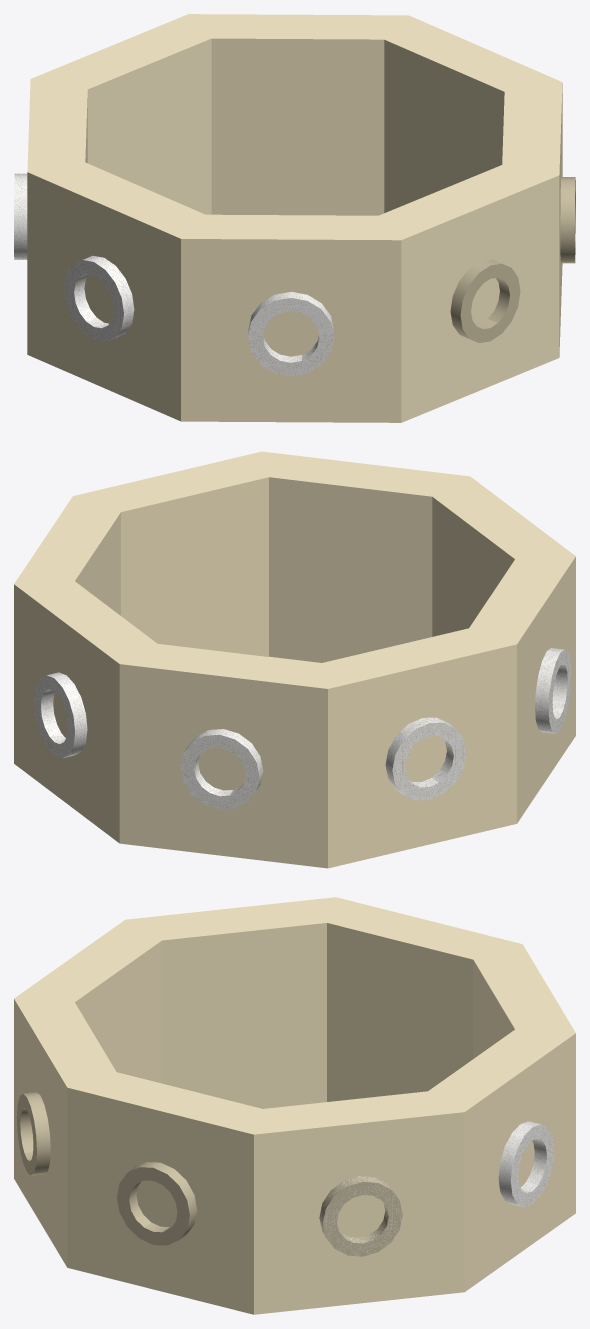
File: Tower2.fbx
The picture shows the model from 3 angles, top to bottom: view 1: azimuth 30°, elevation 25°; view 2: azimuth 150°, elevation 25°; view 3: azimuth 270°, elevation 25°; orthographic projection.
Parts seen in each view (by area): view 1: Group2, Group5, Group6, Group3, Group4, Group7; view 2: Group2, Group7, Group8, Group9, Group6; view 3: Group2, Group4, Group10, Group9, Group3.
Part boxes in pixels (<box>): Group2: <box>27,14,562,422</box>; Group5: <box>248,291,334,375</box>; Group6: <box>64,255,134,342</box>; Group3: <box>450,259,520,342</box>; Group4: <box>560,177,575,263</box>; Group7: <box>14,173,27,259</box>; Group2: <box>14,451,575,868</box>; Group7: <box>385,717,466,800</box>; Group8: <box>180,729,263,809</box>; Group9: <box>33,672,87,758</box>; Group6: <box>535,648,571,733</box>; Group2: <box>14,897,575,1314</box>; Group4: <box>117,1162,197,1245</box>; Group10: <box>319,1176,402,1256</box>; Group9: <box>498,1121,554,1207</box>; Group3: <box>16,1092,50,1175</box>.
Bounding box in the file's own units: 1979 × 700 × 1979.
